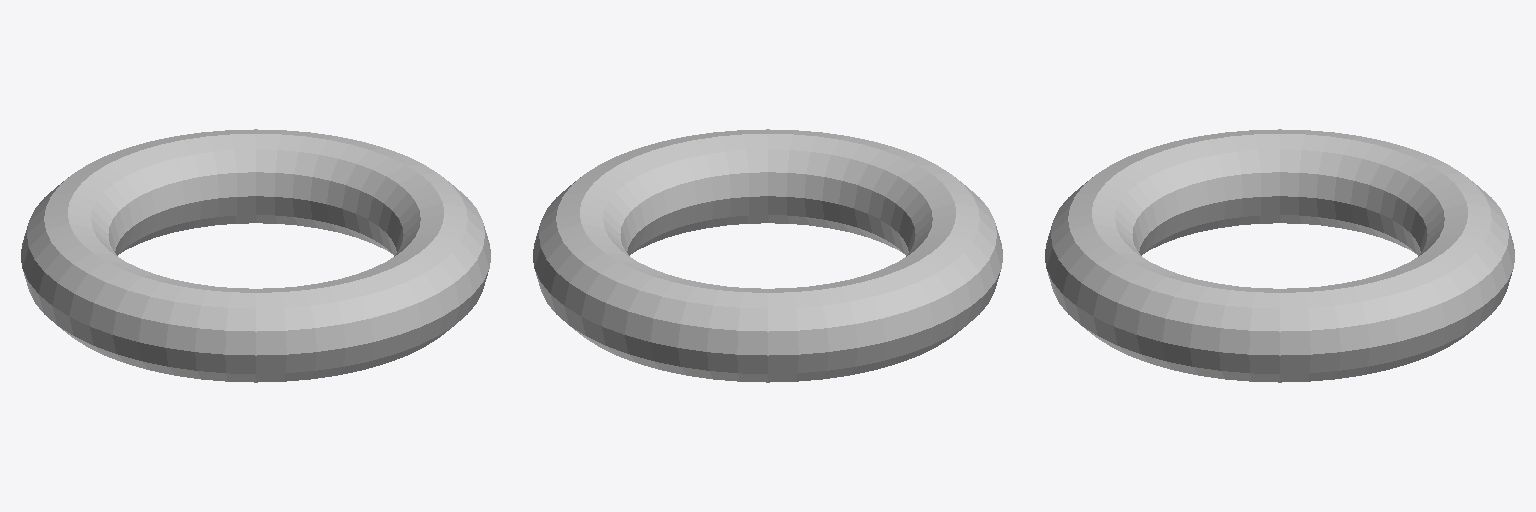
Rendered from santa.obj.
3 renders of one model, left to right at view 1: azimuth 30°, elevation 25°; view 2: azimuth 150°, elevation 25°; view 3: azimuth 270°, elevation 25°, orthographic.
Visible parts, largest first — view 1: Torus; view 2: Torus; view 3: Torus.
Boxes of the visible parts, <box> form: Torus: <box>21,129,490,382</box>; Torus: <box>533,129,1002,382</box>; Torus: <box>1045,129,1514,382</box>.
Bounding box in the file's own units: 2.5 × 0.5 × 2.5.